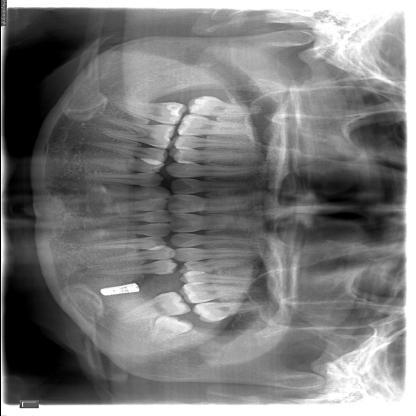ITI: (93, 280, 144, 300)
